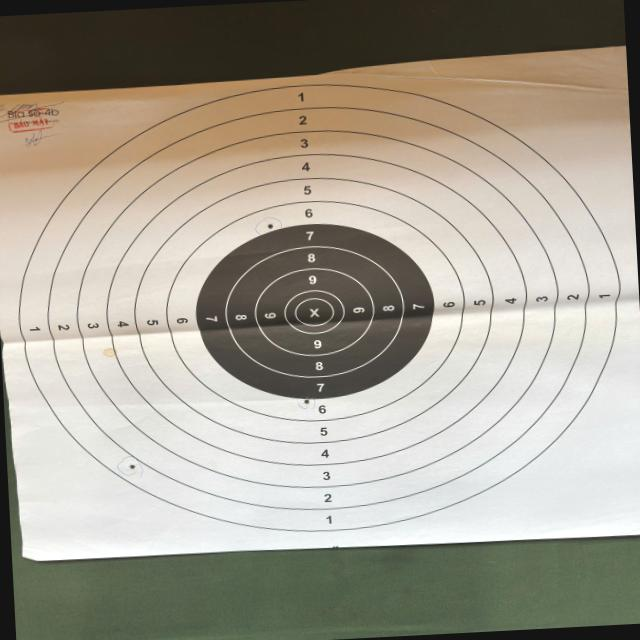bullet: (266, 224, 273, 229), (304, 399, 310, 404), (129, 464, 135, 469)
target: (0, 46, 640, 561)
